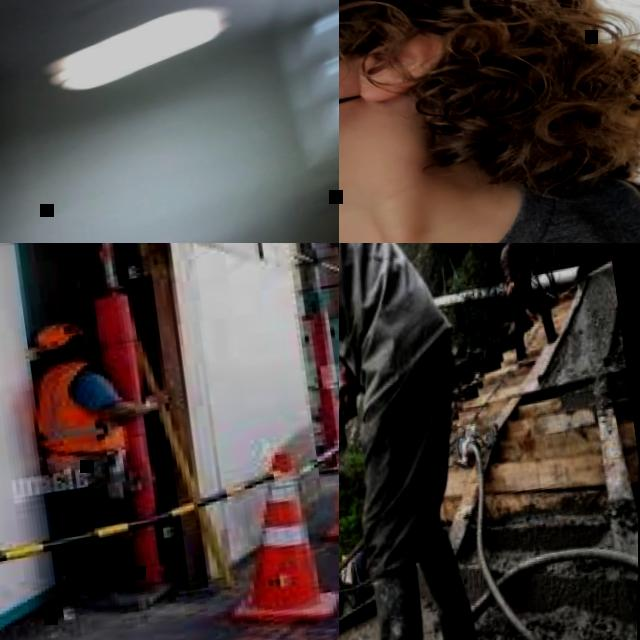NO-Hardhat: (30, 320, 85, 350)
NO-Safety Vest: (339, 155, 640, 243), (339, 243, 446, 400), (24, 355, 128, 468), (506, 245, 537, 293)
Person: (339, 0, 640, 243), (339, 243, 513, 640), (14, 304, 207, 620), (493, 243, 559, 361), (571, 243, 620, 316)
Safety Cone: (219, 446, 339, 630), (297, 424, 339, 548)
